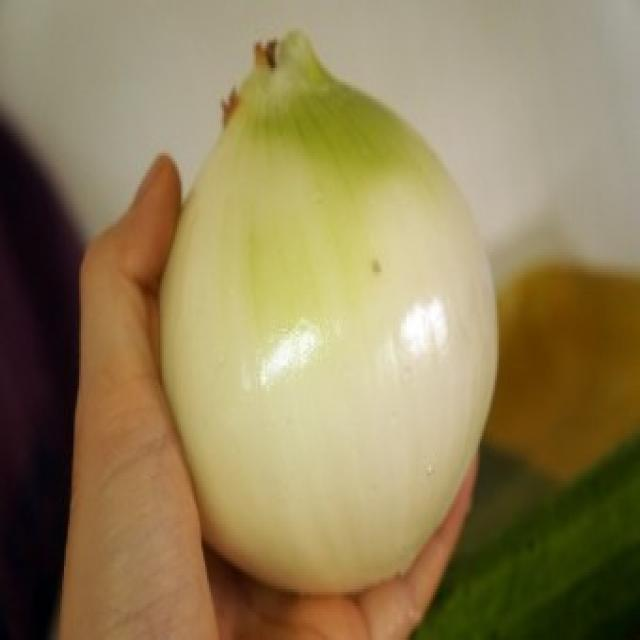onion: (139, 21, 536, 598)
